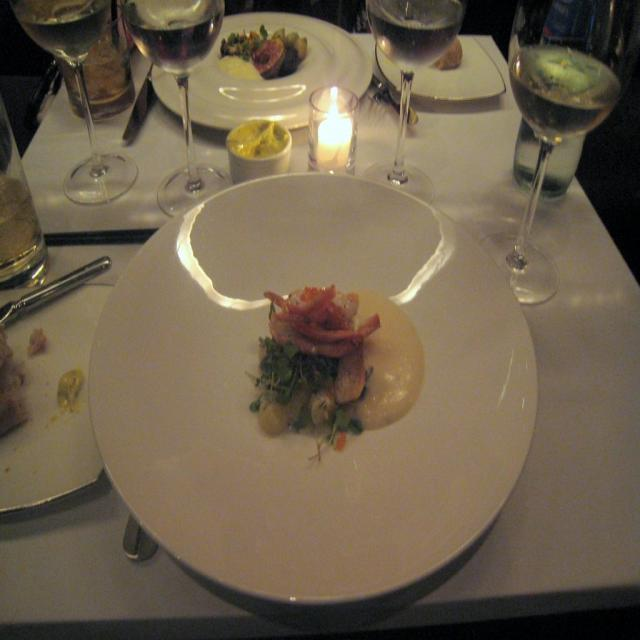non-organic waste: (93, 170, 543, 627)
